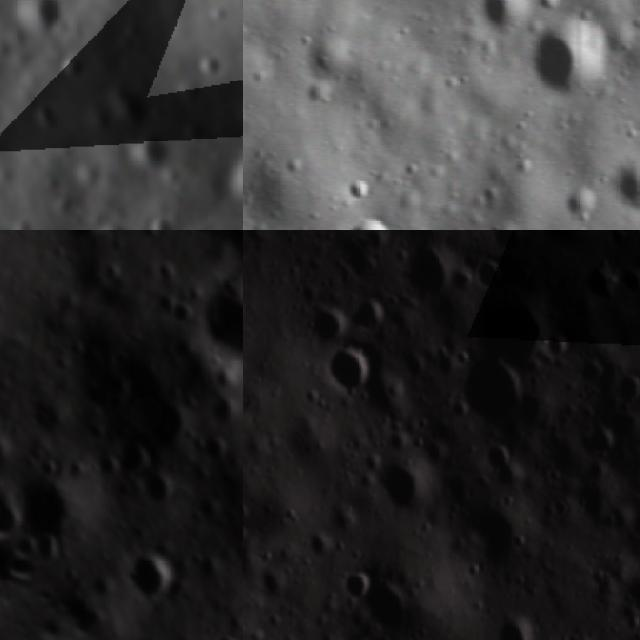crater: (2, 460, 94, 554), (175, 251, 243, 378), (535, 19, 615, 107), (114, 538, 188, 612), (107, 72, 182, 137), (0, 0, 76, 52), (120, 128, 181, 188), (104, 422, 164, 482), (316, 343, 374, 398), (470, 371, 532, 419), (210, 145, 243, 223), (217, 497, 243, 592), (375, 466, 436, 506), (50, 42, 100, 90), (303, 286, 350, 335), (133, 465, 179, 513), (0, 389, 23, 483), (22, 94, 65, 140), (130, 199, 192, 230), (476, 0, 530, 31), (53, 230, 115, 253), (590, 269, 626, 303), (559, 190, 596, 223), (478, 444, 512, 478), (613, 369, 640, 406), (347, 568, 372, 605), (500, 617, 538, 640), (362, 294, 386, 330), (544, 326, 566, 363), (478, 257, 500, 289), (349, 180, 374, 202), (624, 613, 640, 635), (401, 165, 424, 177)
